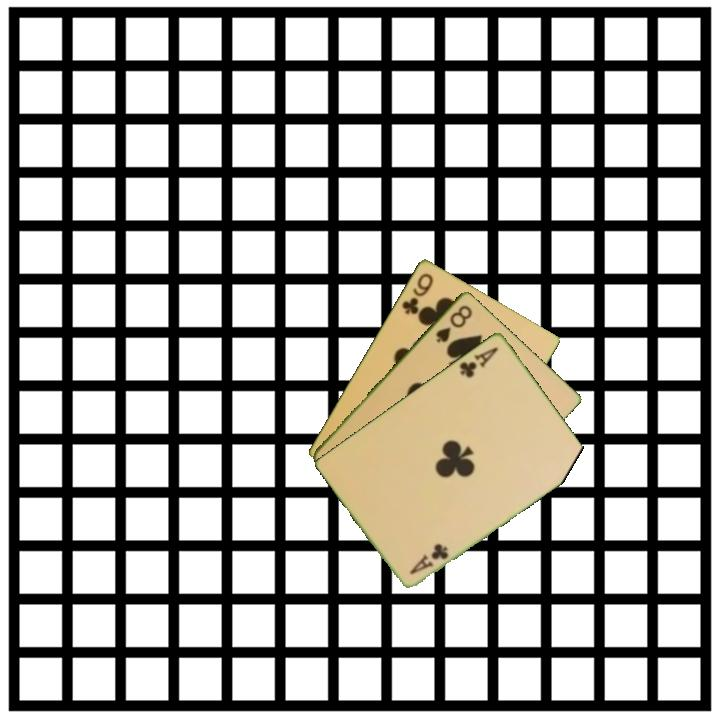8s: (432, 301, 475, 345)
9c: (398, 269, 436, 317)
Ac: (456, 343, 501, 381), (406, 539, 451, 577)
